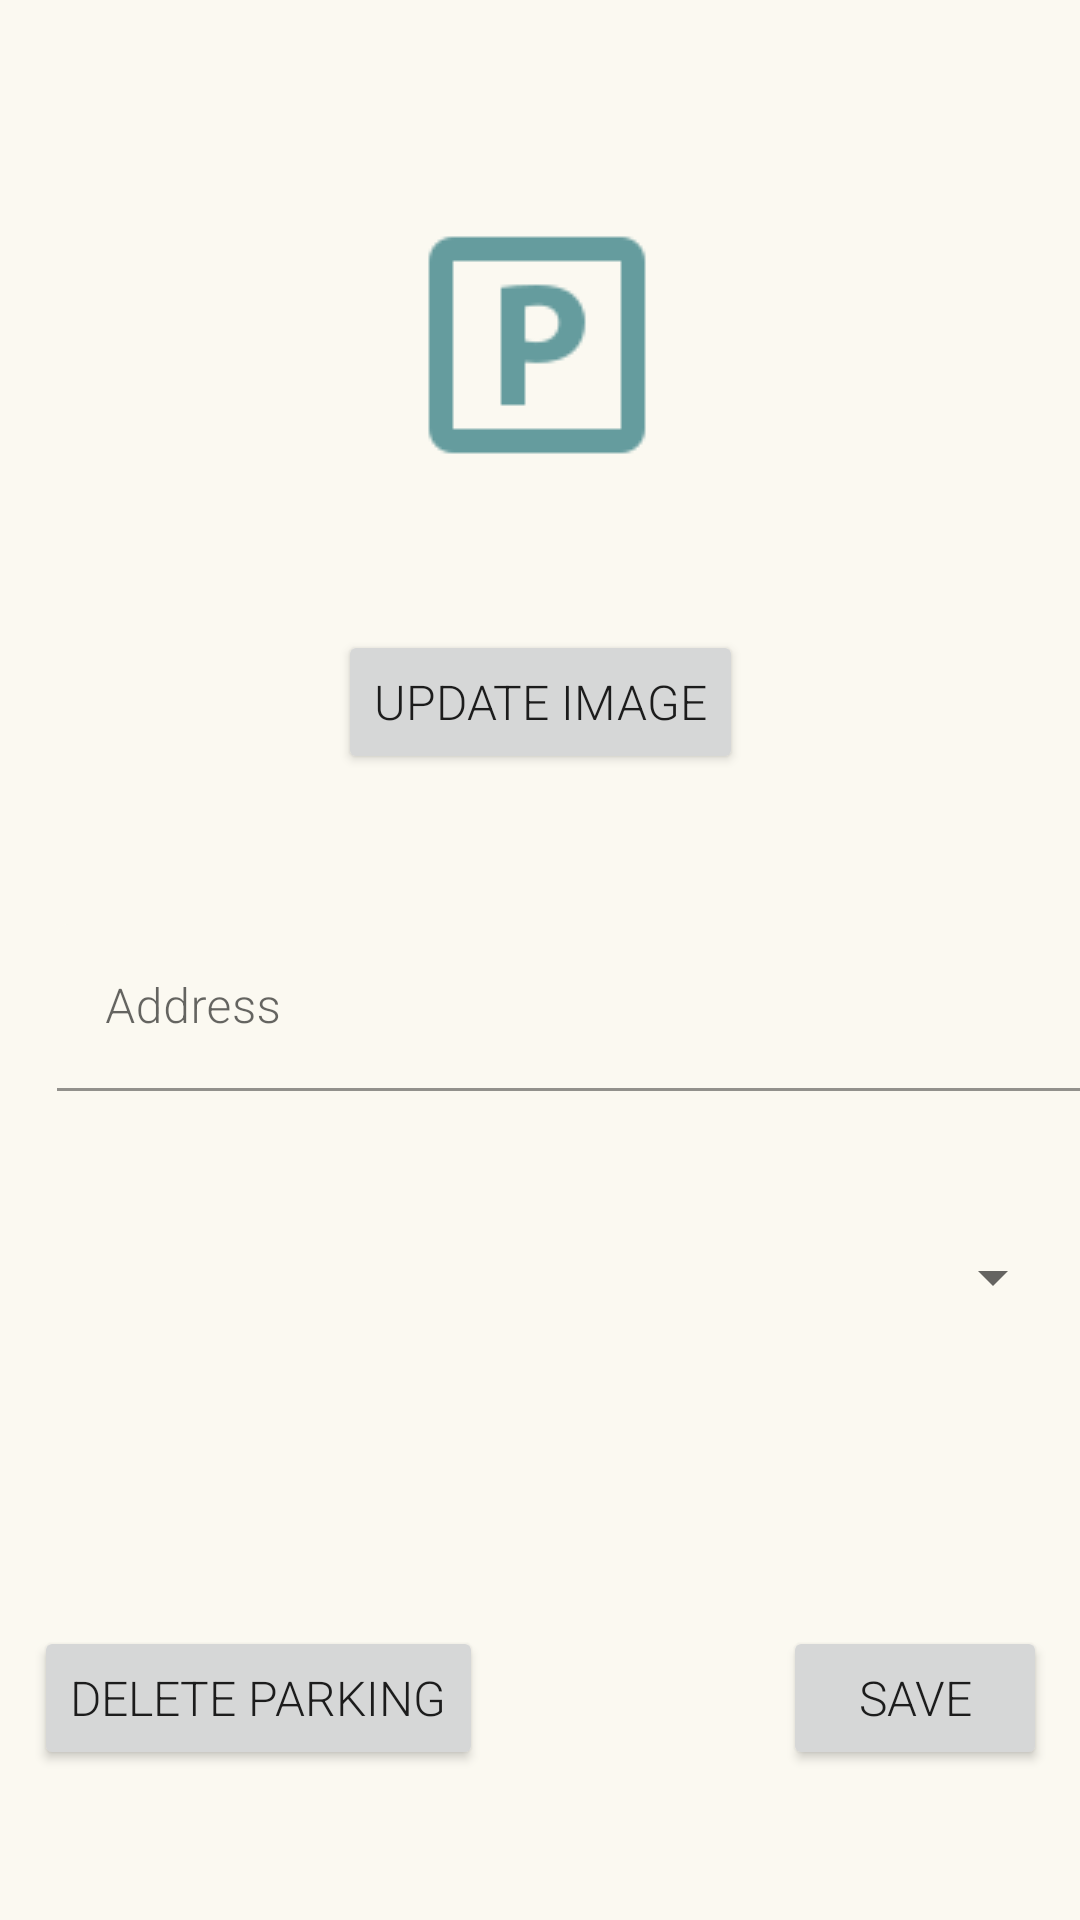

Point at icon controls on the screen. Image size 1080×1920, points as (x=x, y=y).
parking: (x=537, y=345)
